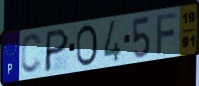4: (102, 18, 123, 64)
5: (131, 14, 152, 60)
C: (19, 32, 44, 75)
F: (155, 10, 179, 56)
O: (75, 24, 99, 69)
P: (43, 27, 71, 74)
